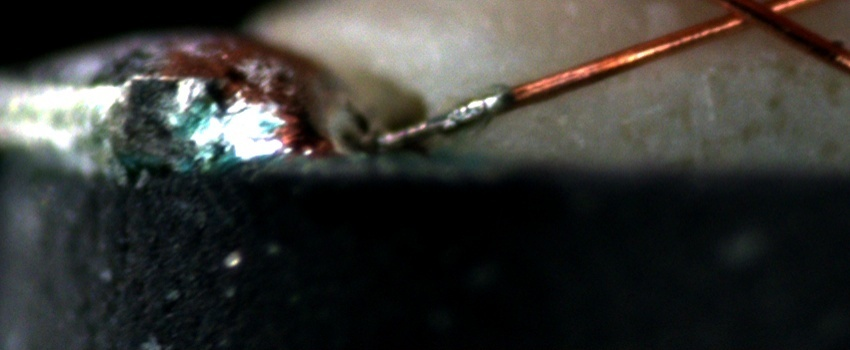CL: (708, 0, 803, 33)
TB: (438, 83, 515, 131)
TS: (374, 89, 511, 148)
TTCW: (370, 66, 558, 150)
